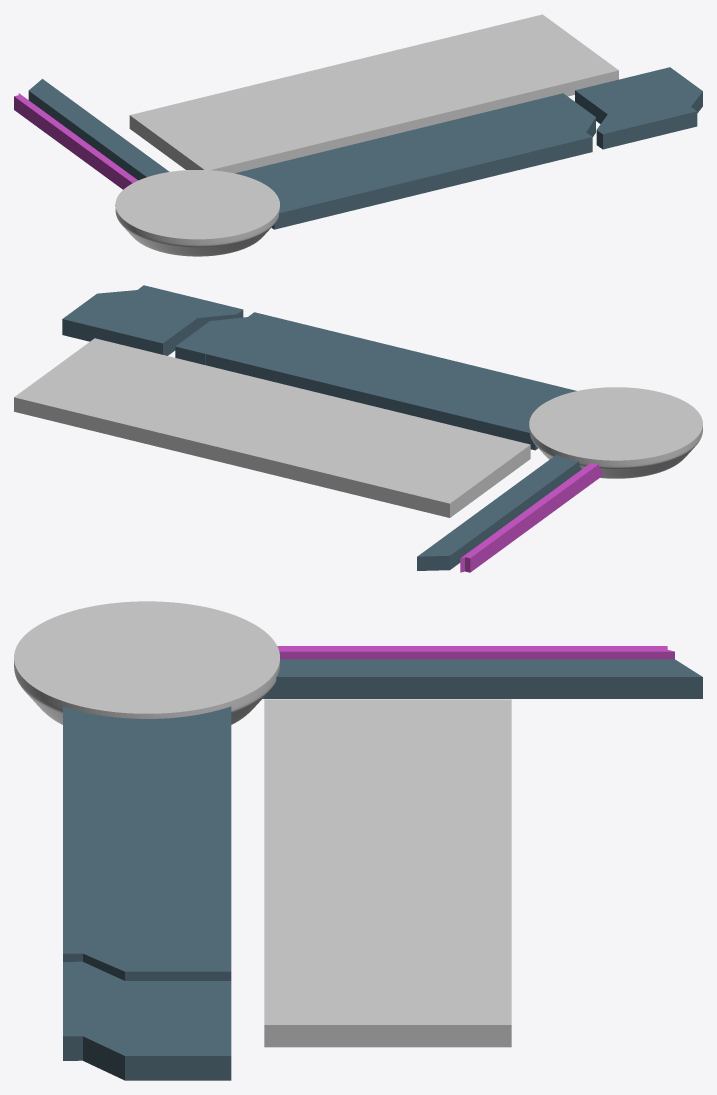
The model's file is statusbar.fbx.
The picture shows the model from 3 angles, top to bottom: view 1: azimuth 30°, elevation 25°; view 2: azimuth 150°, elevation 25°; view 3: azimuth 270°, elevation 25°; orthographic projection. The views are drawn at different scales.
Parts seen in each view (by area): view 1: Cube.006, Cube.008, Cube.009, Cube.012, Cube.010, Cube.011; view 2: Cube.006, Cube.008, Cube.009, Cube.012, Cube.010, Cube.011; view 3: Cube.006, Cube.008, Cube.009, Cube.012, Cube.010, Cube.011.
Boxes of the visible parts, x1,y1,x2,y2 form: Cube.006: (129,14,618,173); Cube.008: (235,100,586,229); Cube.009: (115,170,279,256); Cube.012: (535,67,702,153); Cube.010: (28,79,169,180); Cube.011: (14,93,137,189); Cube.006: (14,338,530,517); Cube.008: (205,313,576,450); Cube.009: (529,387,702,478); Cube.012: (62,285,259,364); Cube.010: (417,455,581,570); Cube.011: (460,463,603,572); Cube.006: (264,699,511,1047); Cube.008: (63,706,231,949); Cube.009: (14,601,279,724); Cube.012: (63,949,231,1080); Cube.010: (262,659,702,698); Cube.011: (277,646,674,659).
Size of the model in its own units: 335 by 21.2 by 217.
